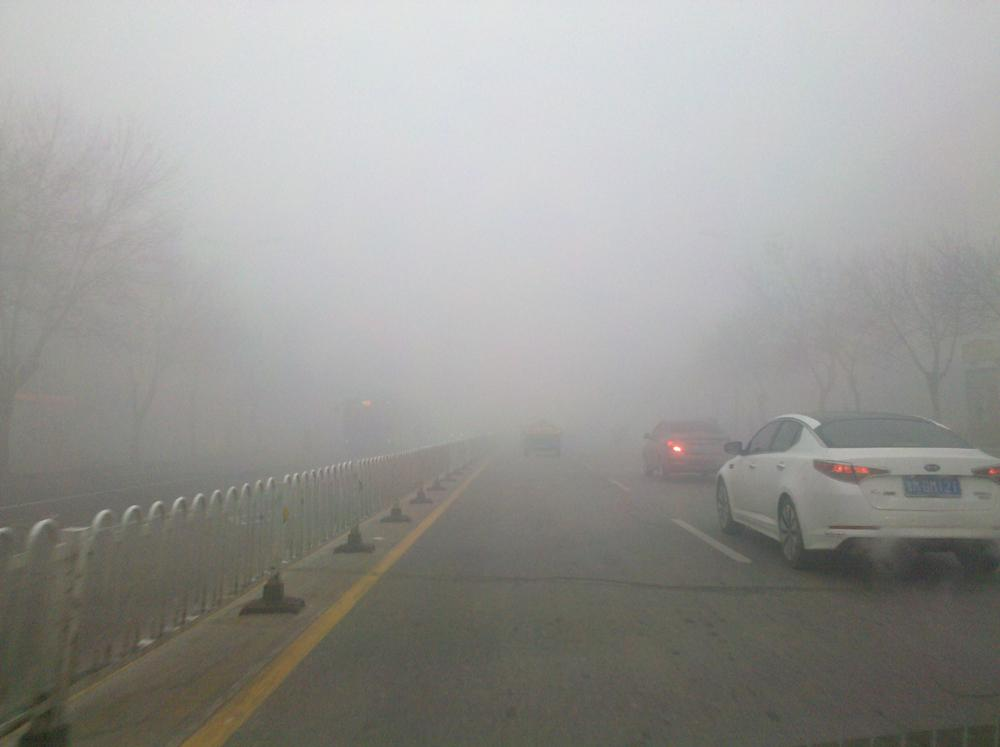car: (711, 409, 1000, 571), (641, 417, 745, 483), (524, 419, 564, 456)
